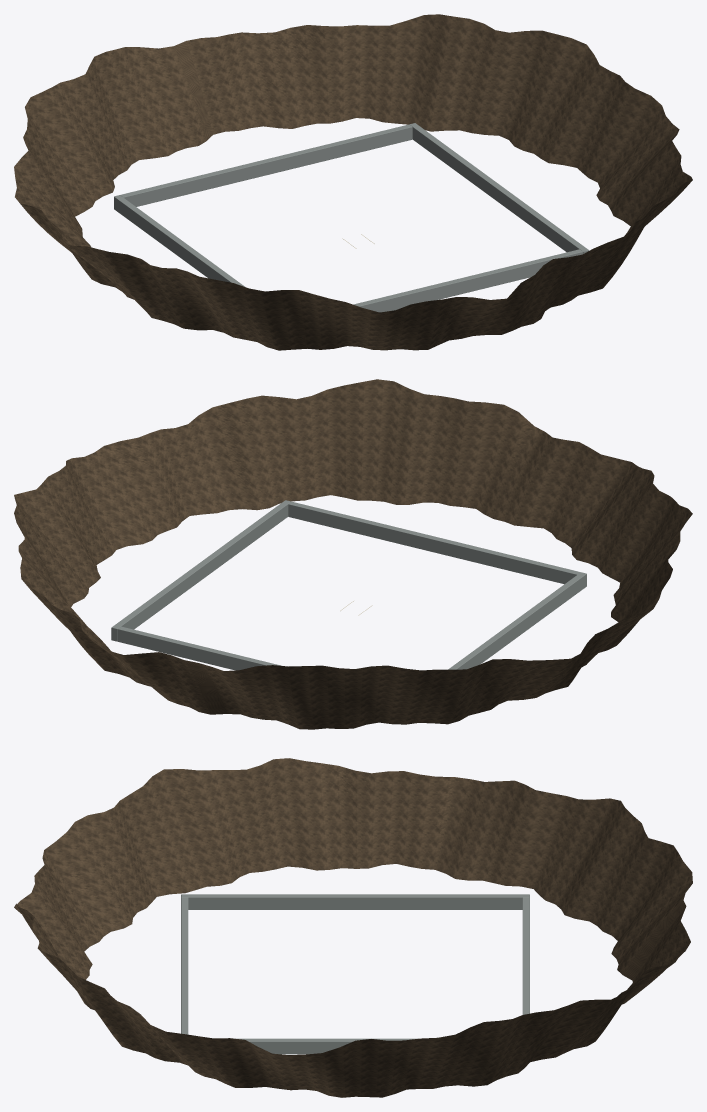
Rendered from defense_5_v2.glb.
The picture shows the model from 3 angles, top to bottom: view 1: azimuth 30°, elevation 25°; view 2: azimuth 150°, elevation 25°; view 3: azimuth 270°, elevation 25°; orthographic projection.
Parts seen in each view (by area): view 1: CAVE_strata, PLAZA_boundary, PLAZA_boundary.003, PLAZA_boundary.001, PLAZA_boundary.002; view 2: CAVE_strata, PLAZA_boundary.001, PLAZA_boundary.003, PLAZA_boundary.002, PLAZA_boundary; view 3: CAVE_strata, PLAZA_boundary.002, PLAZA_boundary.003, PLAZA_boundary.001, PLAZA_boundary.
Boxes of the visible parts, <box> form: CAVE_strata: <box>14,14,692,350</box>; PLAZA_boundary: <box>120,124,412,206</box>; PLAZA_boundary.003: <box>409,123,589,253</box>; PLAZA_boundary.001: <box>353,249,582,312</box>; PLAZA_boundary.002: <box>114,195,244,286</box>; CAVE_strata: <box>14,379,692,729</box>; PLAZA_boundary.001: <box>288,501,580,584</box>; PLAZA_boundary.003: <box>111,500,291,641</box>; PLAZA_boundary.002: <box>448,572,586,669</box>; PLAZA_boundary: <box>117,626,281,670</box>; CAVE_strata: <box>14,758,692,1097</box>; PLAZA_boundary.002: <box>181,894,529,909</box>; PLAZA_boundary.003: <box>236,1038,417,1054</box>; PLAZA_boundary.001: <box>181,897,188,1034</box>; PLAZA_boundary: <box>522,897,529,1014</box>.
Size of what is drawn, in the model's own units: 192 by 27.98 by 191.
Materials: 3 (1 with a texture image).
